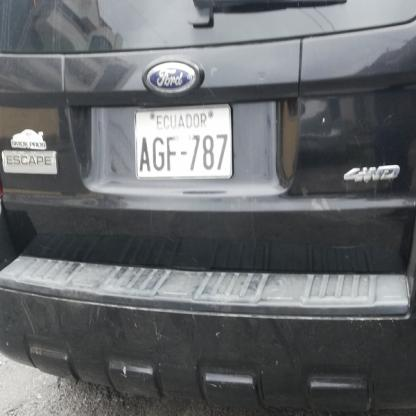Placa: (132, 109, 239, 182)
